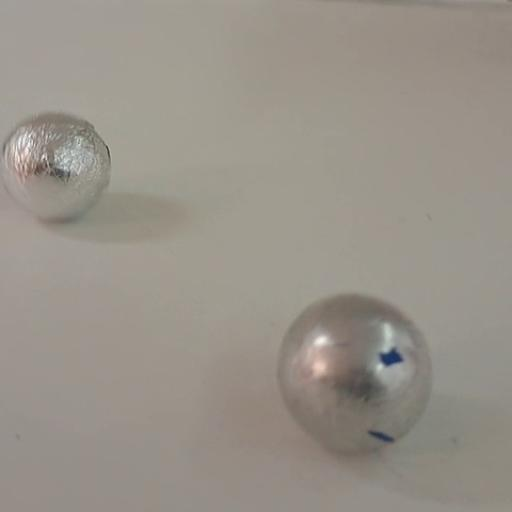alive: (274, 290, 439, 459), (0, 110, 115, 224)
